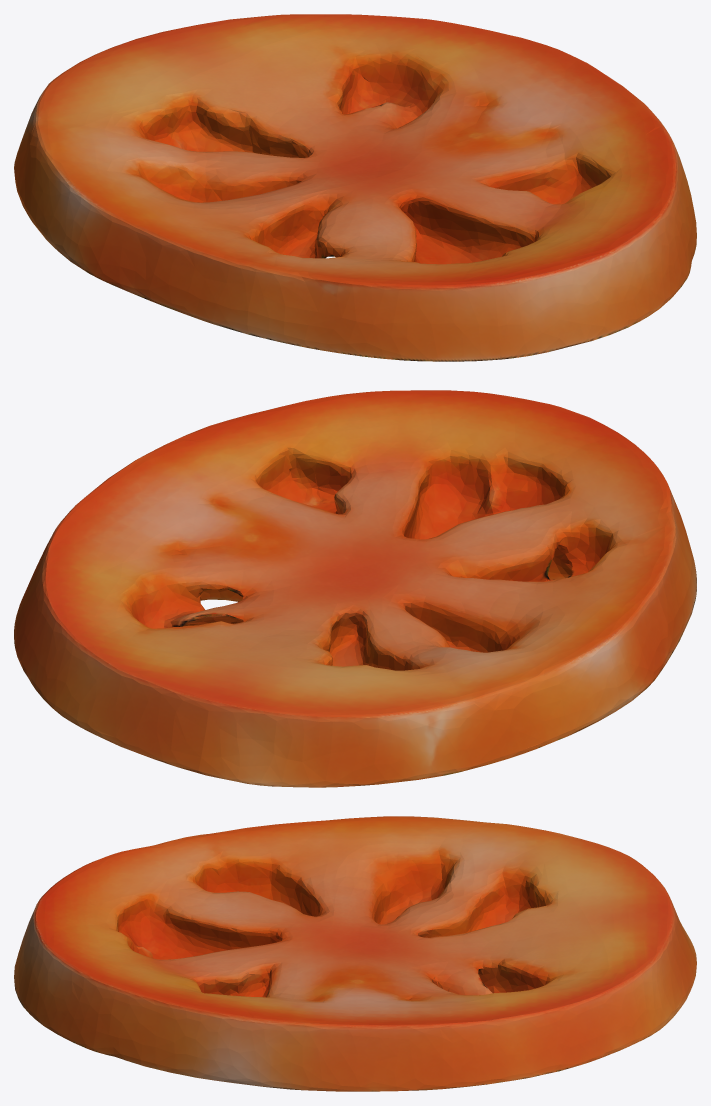
Rendered from tomato.glb.
The picture shows the model from 3 angles, top to bottom: view 1: azimuth 30°, elevation 25°; view 2: azimuth 150°, elevation 25°; view 3: azimuth 270°, elevation 25°; orthographic projection. The views are drawn at different scales.
Visible parts, largest first — view 1: world; view 2: world; view 3: world.
Part boxes in pixels (bbox=[...]): world: bbox=[14, 14, 696, 361]; world: bbox=[14, 390, 696, 787]; world: bbox=[14, 816, 696, 1091].
Bounding box in the file's own units: 0.8226 × 0.1106 × 0.9967.
Materials: 1 (1 with a texture image).
